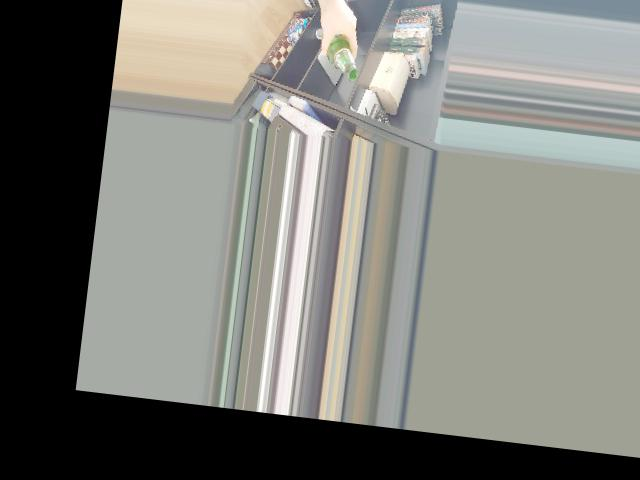beer: (316, 28, 362, 81)
